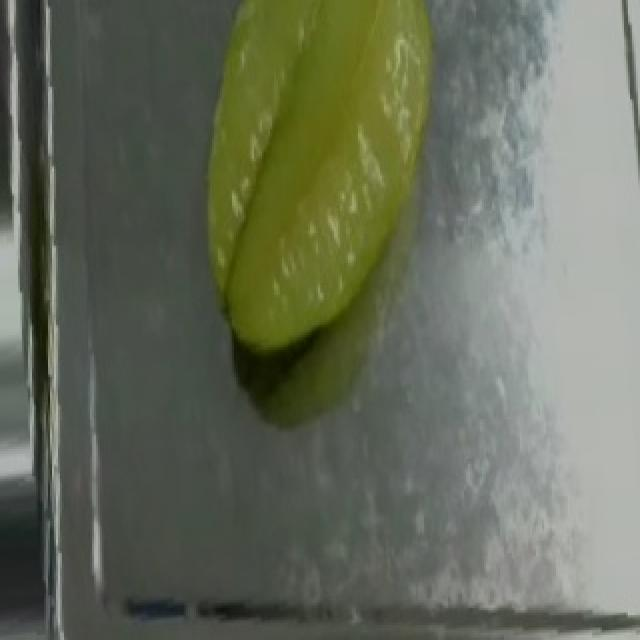fruit: (186, 0, 474, 325)
